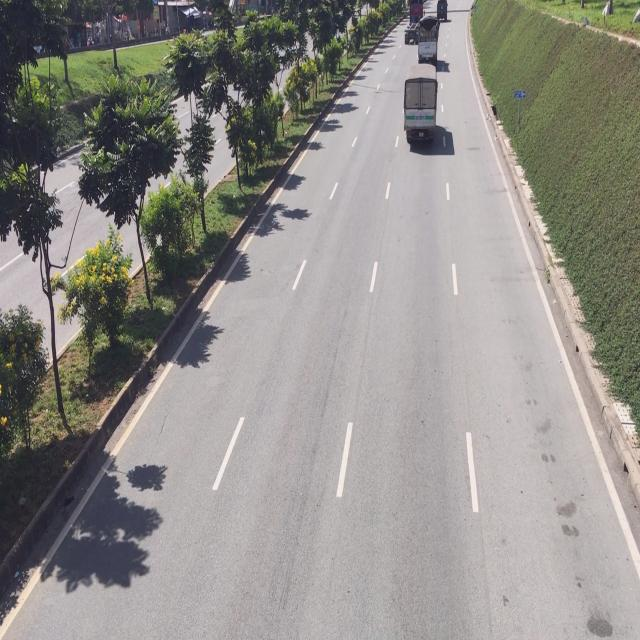truck: (405, 64, 437, 146), (417, 11, 439, 65), (404, 0, 424, 44)
